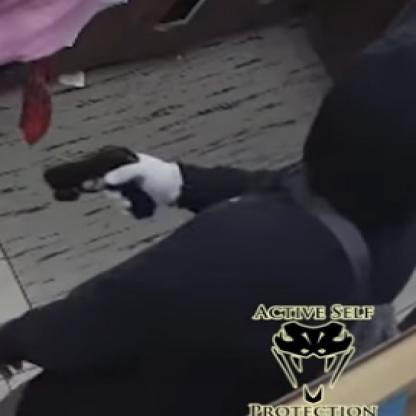weapon: (43, 142, 157, 221)
